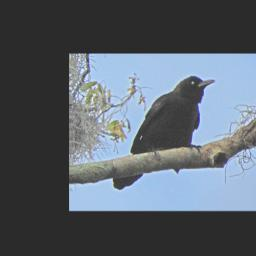Crow: (111, 76, 217, 191)
